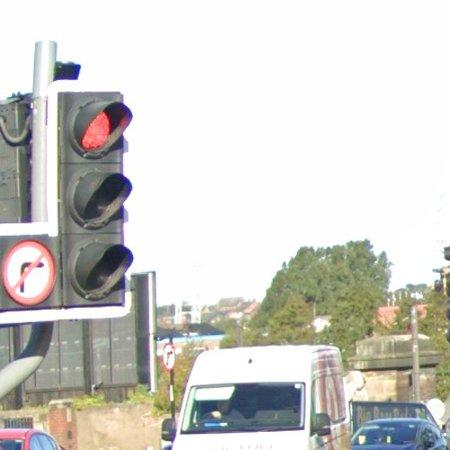traffic lights: (58, 92, 133, 309)
